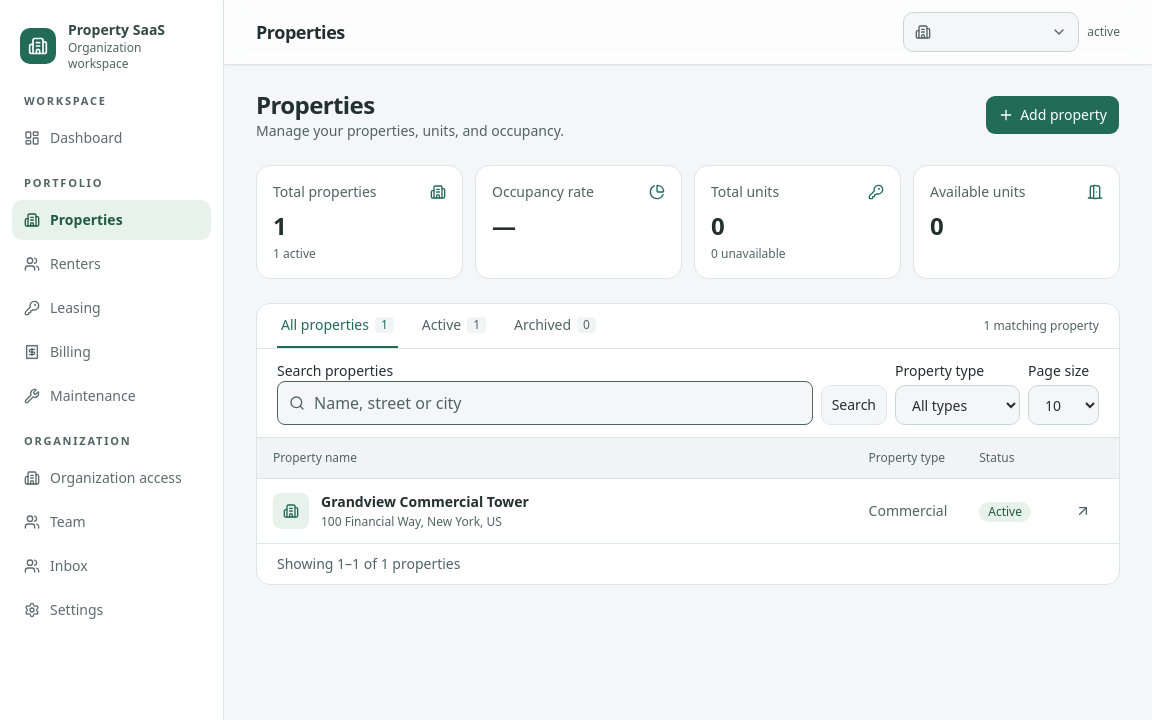
Test: navigates to Settings and marks only that destination active
The image size is (1152, 720).
Click the link "Settings". click: (64, 609)
box: 24,600 -> 103,619
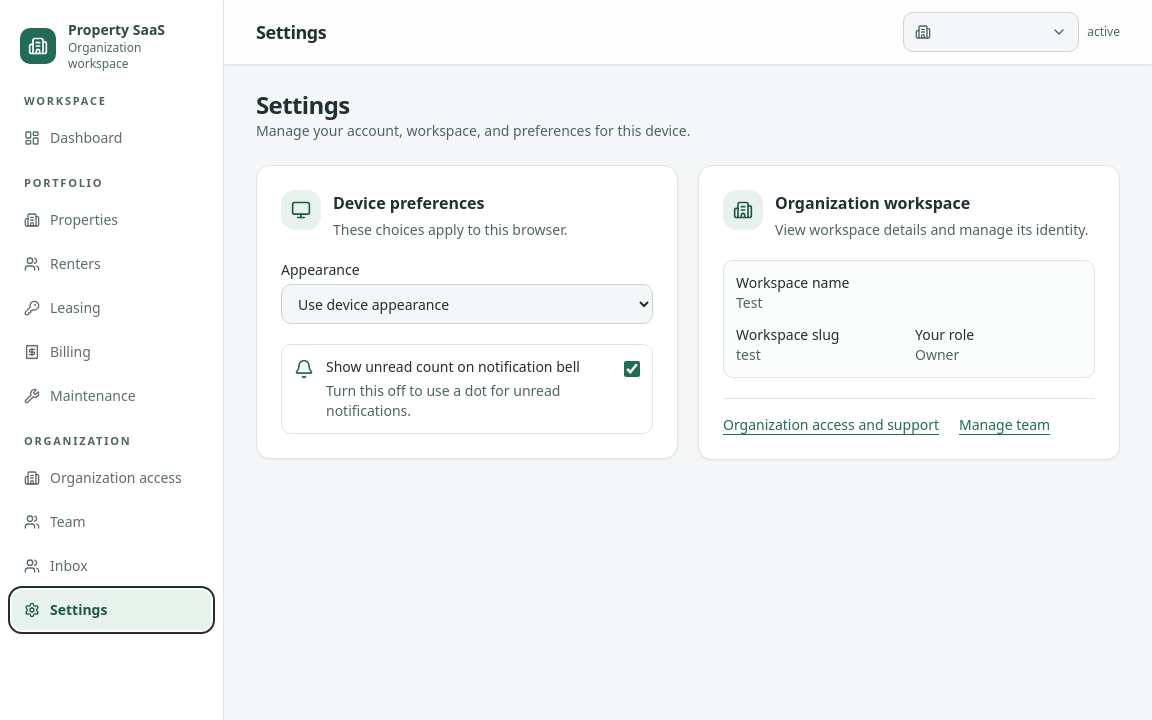
expect the 2nd heading "Settings" is shown: met, box 256,88 -> 350,121
expect the heading "Settings" in the row of "active" is shown: met, box 256,18 -> 326,46
